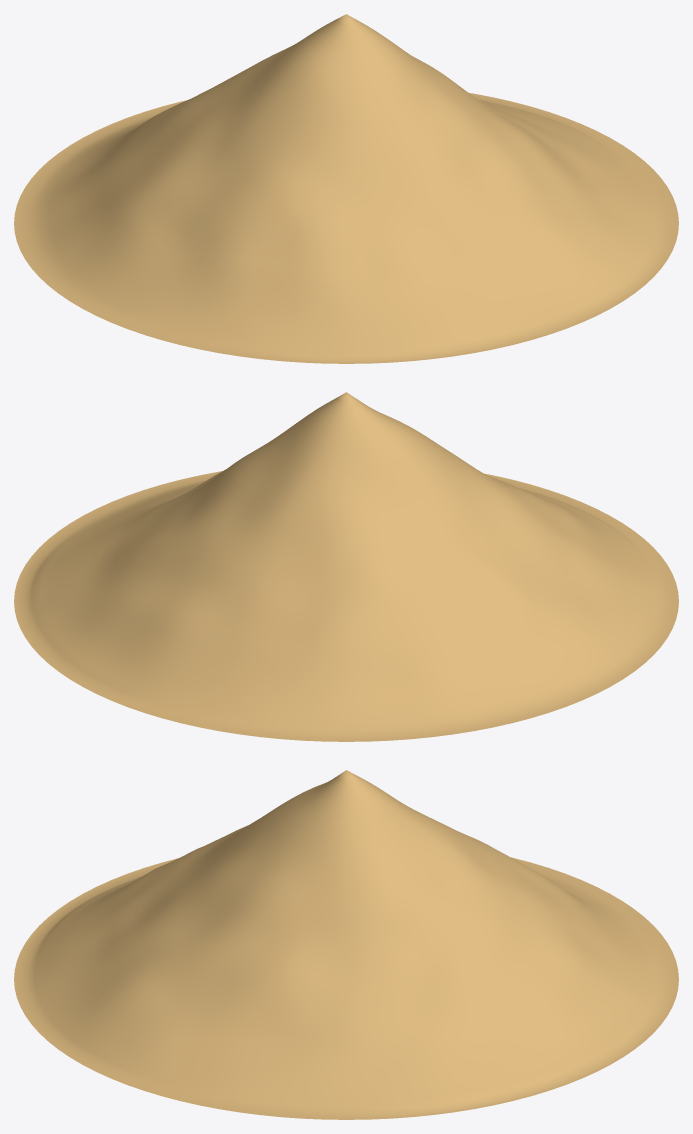
Rendered from powder_pile_benzoin.glb.
3 renders of one model, top to bottom at view 1: azimuth 30°, elevation 25°; view 2: azimuth 150°, elevation 25°; view 3: azimuth 270°, elevation 25°, orthographic.
Parts seen in each view (by area): view 1: powder_pile_benzoin; view 2: powder_pile_benzoin; view 3: powder_pile_benzoin.
Boxes of the visible parts, x1=… form: powder_pile_benzoin: x1=14, y1=14, x2=678, y2=363; powder_pile_benzoin: x1=14, y1=392, x2=678, y2=741; powder_pile_benzoin: x1=14, y1=770, x2=678, y2=1119.
Size of the model in its own units: 0.0291 by 0.0101 by 0.0291.
